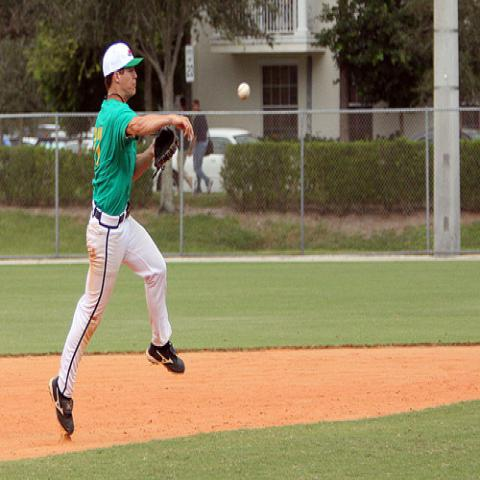car: (153, 127, 259, 192), (460, 111, 480, 140), (33, 138, 66, 149), (2, 133, 21, 145), (81, 140, 93, 153)
